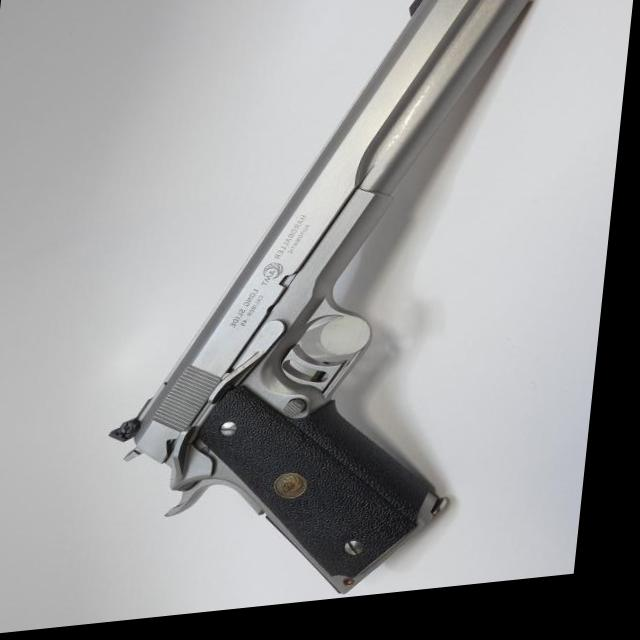handgun: (93, 0, 538, 627)
